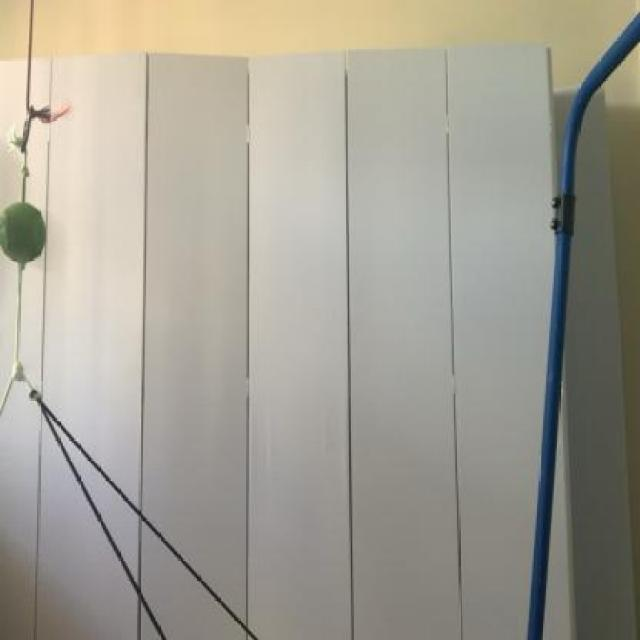baseball: (0, 174, 57, 278)
